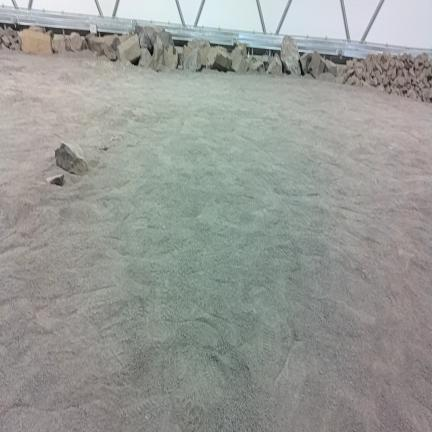Rock: (56, 142, 88, 175), (86, 34, 119, 60), (136, 26, 165, 53), (281, 36, 300, 75), (22, 29, 52, 53), (117, 34, 141, 63), (206, 47, 231, 71), (188, 40, 211, 66), (231, 47, 248, 73), (151, 37, 163, 71), (310, 51, 325, 78), (184, 49, 201, 71), (6, 28, 21, 50), (163, 47, 177, 69), (267, 55, 282, 75), (52, 34, 66, 53), (249, 57, 265, 73), (70, 32, 83, 51), (139, 48, 151, 68), (300, 53, 311, 74), (159, 32, 174, 47), (0, 28, 11, 48), (325, 60, 337, 77), (46, 174, 64, 185), (261, 55, 272, 71), (318, 73, 336, 82), (176, 47, 183, 68), (337, 65, 347, 77), (345, 75, 356, 85), (407, 88, 417, 99), (409, 65, 416, 80), (183, 46, 191, 59), (65, 35, 71, 51), (119, 35, 131, 43), (422, 89, 429, 102), (390, 68, 397, 81), (30, 27, 45, 33), (355, 69, 363, 80), (375, 70, 381, 84), (423, 76, 430, 88), (367, 62, 373, 74), (396, 77, 404, 86), (237, 43, 246, 51), (82, 36, 87, 50), (382, 61, 389, 71), (336, 76, 344, 84), (99, 143, 108, 150), (398, 61, 405, 69), (424, 61, 431, 68), (385, 85, 391, 93), (374, 77, 377, 86), (392, 76, 393, 77)
